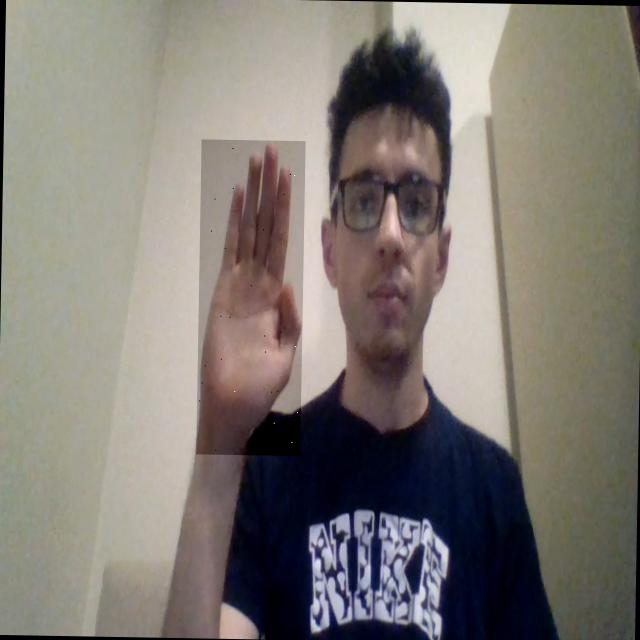hello: (196, 139, 305, 456)
